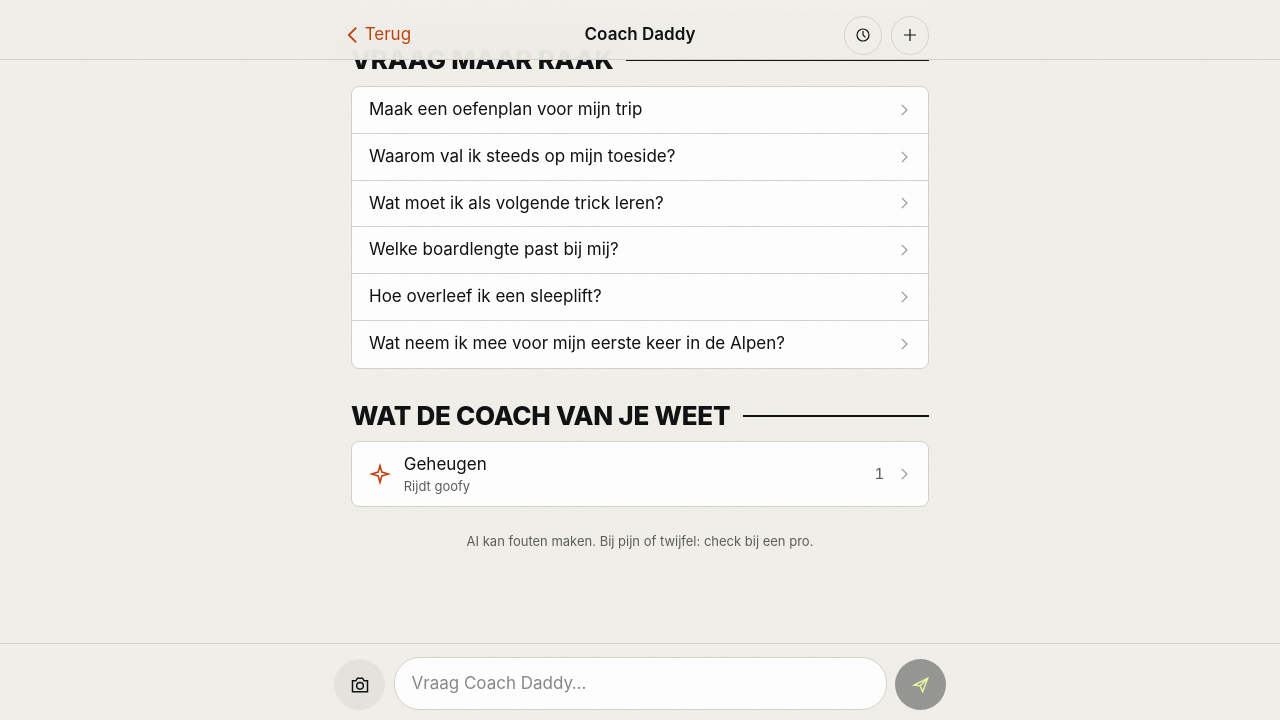
Scenario: geheugen › laat zien wat de coach weet en je kunt het wissen
(page scrolled)
Click the button "Geheugen Rijdt goofy 1" at {"x": 445, "y": 464}, box [352,442,928,506]
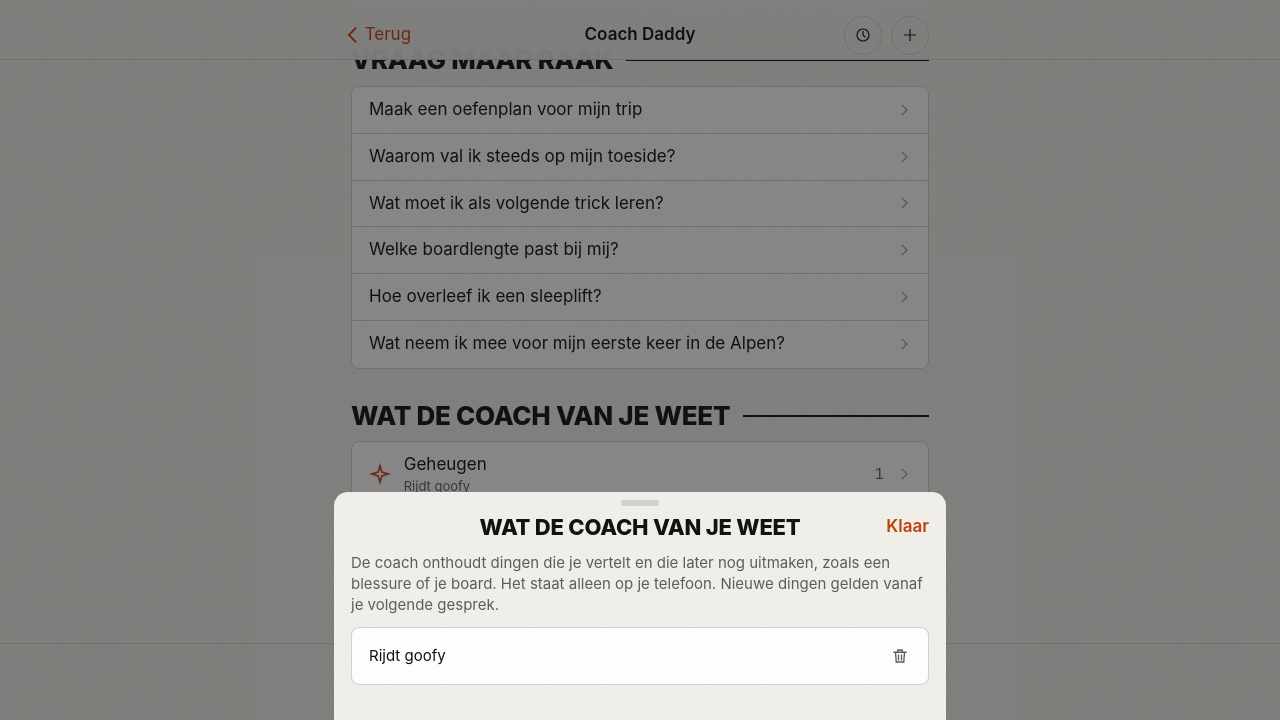
Expected: the text "Rijdt goofy" is shown, [369,646,446,665]
Click the button named "Vergeet: Rijdt goofy" at {"x": 900, "y": 656}, box [877,632,924,679]
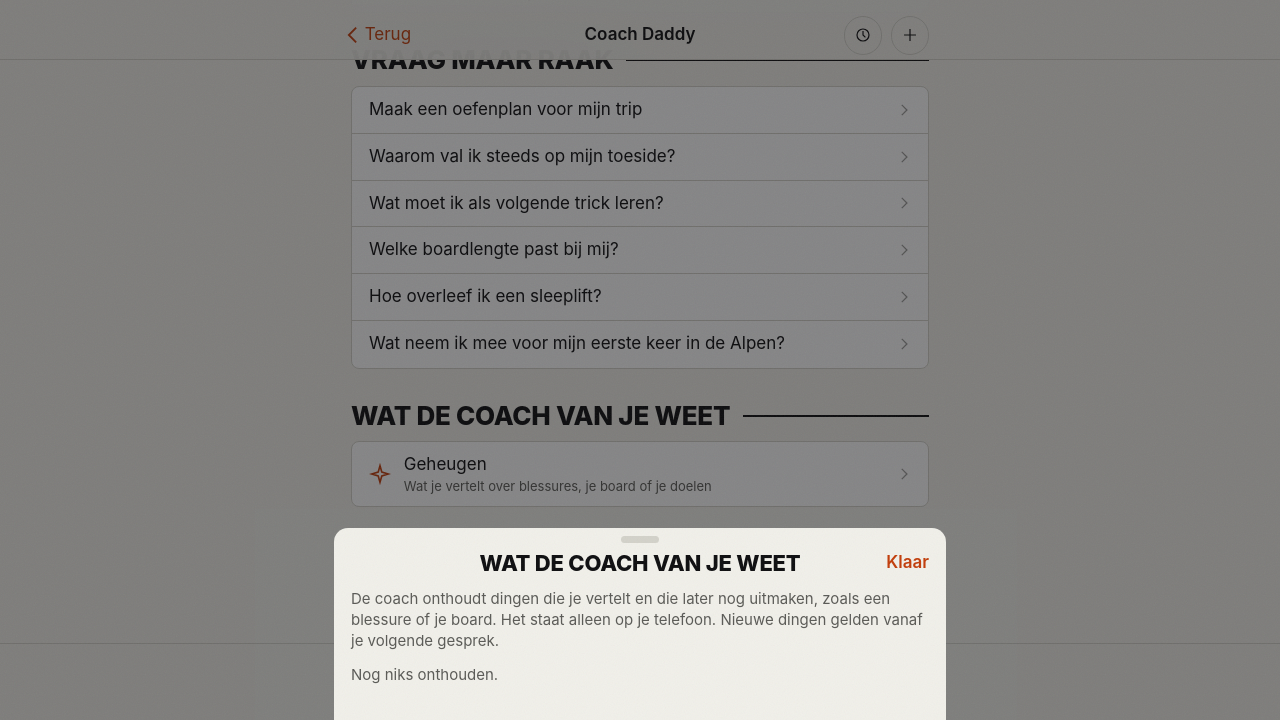
Expected: the text "Nog niks onthouden." is shown, [351,664,498,684]
